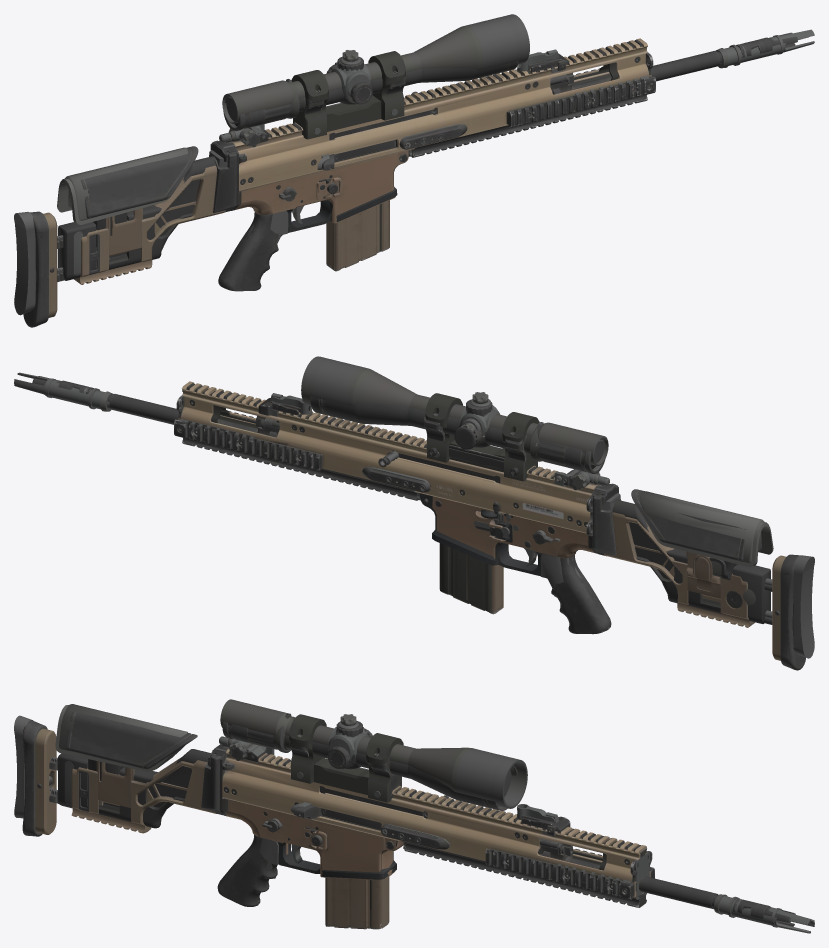
The picture shows the model from 3 angles, top to bottom: view 1: azimuth 30°, elevation 25°; view 2: azimuth 150°, elevation 25°; view 3: azimuth 330°, elevation 25°; orthographic projection.
Visible parts, largest first — view 1: weapon_snip_scar20.vmdl_c.body_hd, weapon_snip_scar20.vmdl_c.body_legacy; view 2: weapon_snip_scar20.vmdl_c.body_hd, weapon_snip_scar20.vmdl_c.body_legacy; view 3: weapon_snip_scar20.vmdl_c.body_hd, weapon_snip_scar20.vmdl_c.body_legacy.
Boxes of the visible parts, bbox=[...] form: weapon_snip_scar20.vmdl_c.body_hd: bbox=[23, 32, 797, 327]; weapon_snip_scar20.vmdl_c.body_legacy: bbox=[14, 14, 814, 315]; weapon_snip_scar20.vmdl_c.body_hd: bbox=[32, 376, 805, 670]; weapon_snip_scar20.vmdl_c.body_legacy: bbox=[14, 356, 814, 658]; weapon_snip_scar20.vmdl_c.body_hd: bbox=[22, 711, 795, 929]; weapon_snip_scar20.vmdl_c.body_legacy: bbox=[14, 699, 814, 933].
Bounding box in the file's own units: 44.05 × 11.22 × 3.
3 materials, 2 textured.
